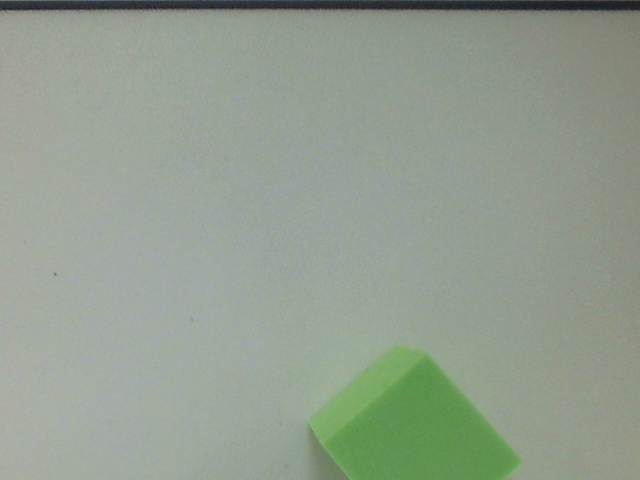greencube: (295, 342, 533, 480)
